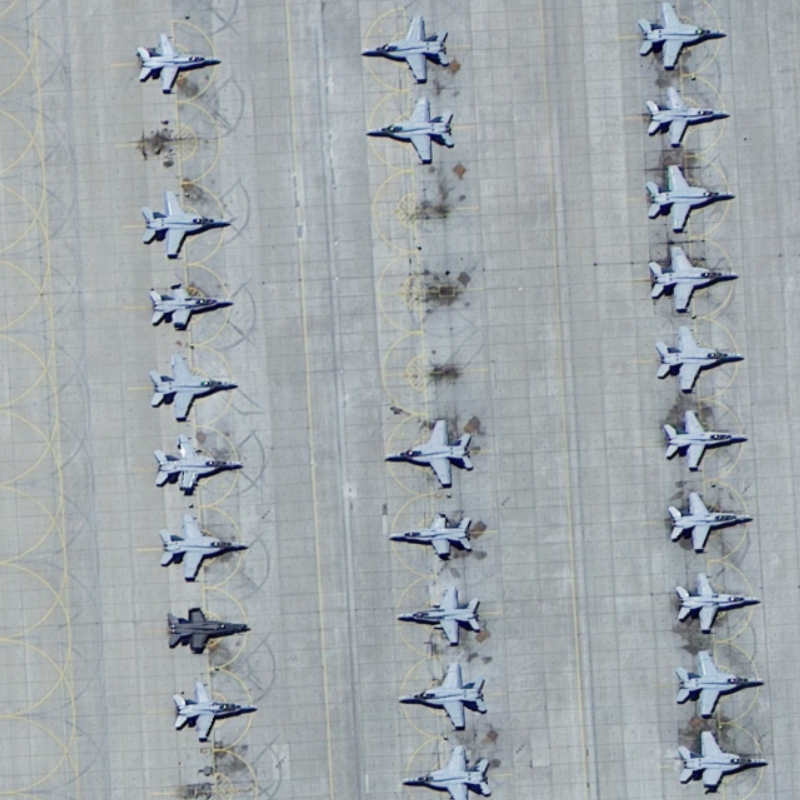A16: (355, 11, 454, 88), (394, 659, 494, 735), (154, 508, 251, 585), (671, 646, 767, 723), (138, 186, 235, 262), (651, 323, 748, 397), (381, 416, 479, 489), (147, 349, 241, 425), (643, 160, 738, 235), (360, 94, 460, 165), (675, 725, 773, 797), (646, 242, 742, 315), (150, 429, 246, 499), (635, 2, 729, 73), (673, 565, 763, 638), (640, 81, 731, 152), (657, 405, 749, 474), (393, 582, 486, 650), (666, 486, 755, 557), (168, 677, 261, 744), (133, 30, 225, 97), (397, 741, 498, 800), (144, 280, 238, 334), (385, 510, 480, 563), (164, 604, 252, 656)
